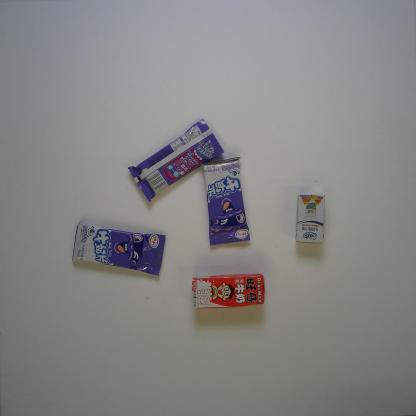Candy: (125, 116, 227, 204), (64, 220, 168, 279), (200, 153, 252, 248)
Milk: (188, 271, 268, 314), (292, 191, 327, 248)
